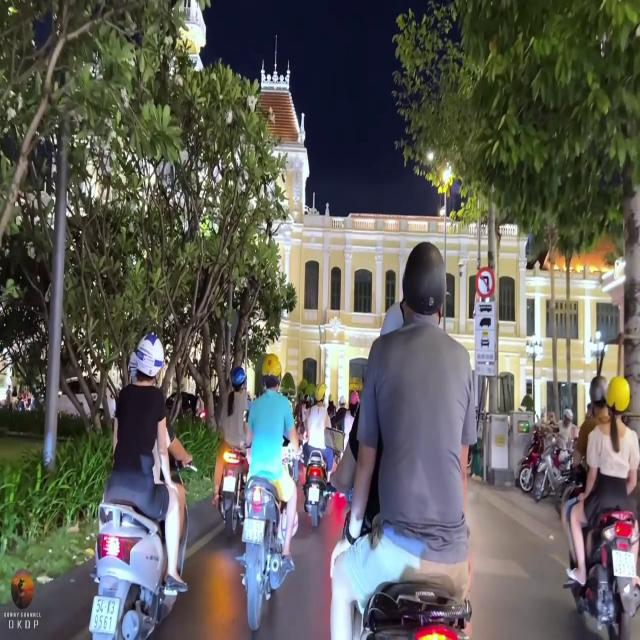bien_trang: (88, 592, 120, 636)
